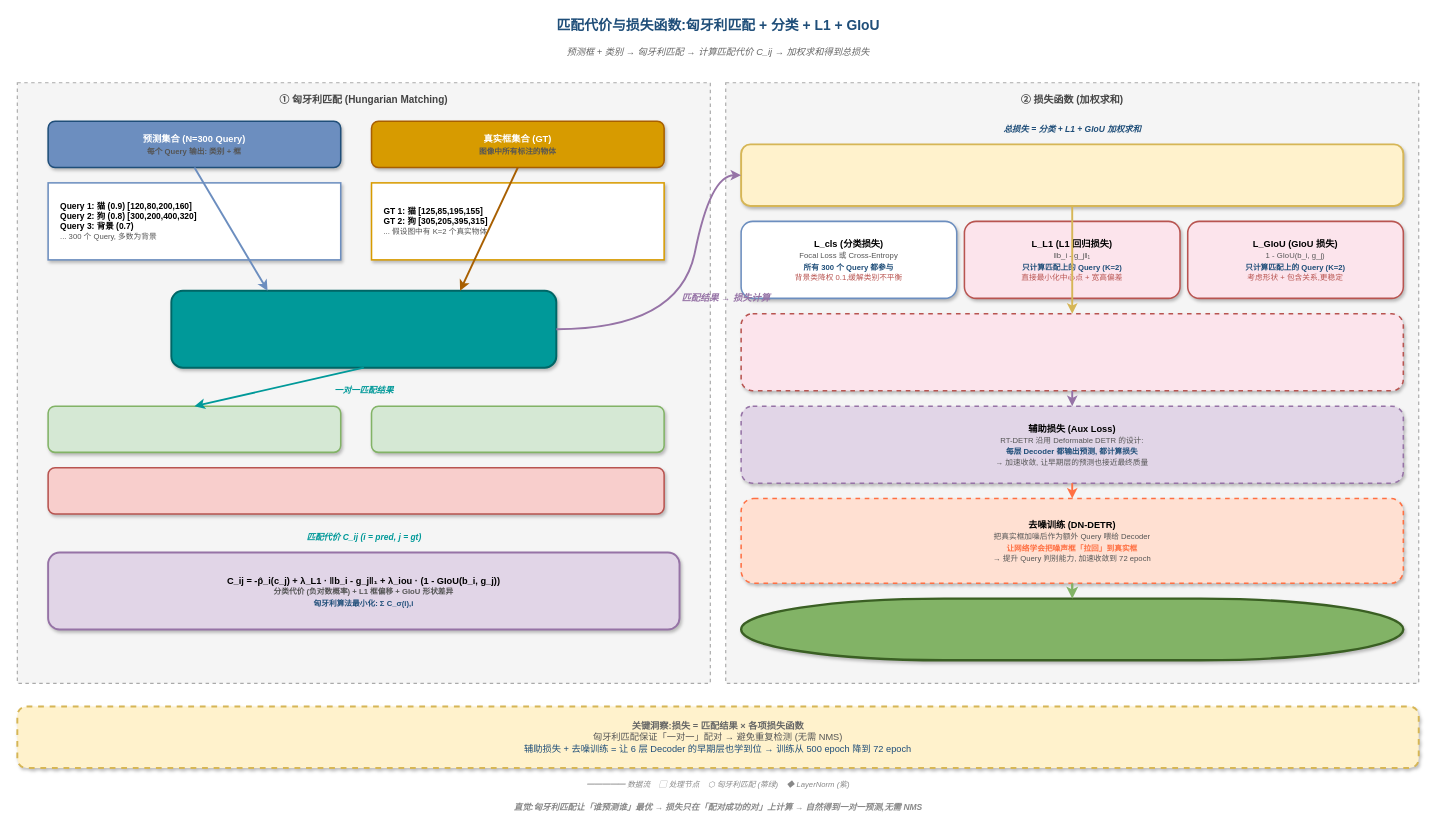
Image size: 1438x829. Some labels were removed from this diagram. Each missing label, with the centre of its shape:
"L = λ_cls · L_cls + λ_L1 · L_L1 + λ_iou · L_GIoU" belongs at (1073,176).
"Query 1 ↔ GT 1 (猫) IoU ≈ 0.85, 类别一致" belongs at (195,430).
"Query 2 ↔ GT 2 (狗) IoU ≈ 0.78, 类别一致" belongs at (518,430).
"其余 298 个 Query → 背景 (no-object) 这些 Query 不参与框回归, 只计算分类损失" belongs at (356,492).
"匈牙利匹配 (Hungarian Algorithm) 为每个 GT 找「最优」的 Query 配对 目标: 全局最优的一对一匹配 (总代价最小)" belongs at (364,330).
"总损失: 加权求和 + 辅助 + 去噪" belongs at (1073,630).
"权重超参数 (典型值) λ_cls = 2 (分类主导,最重要) λ_L1 = 5 (框偏移) λ_iou = 2 (形状相似)" belongs at (1072,353).
